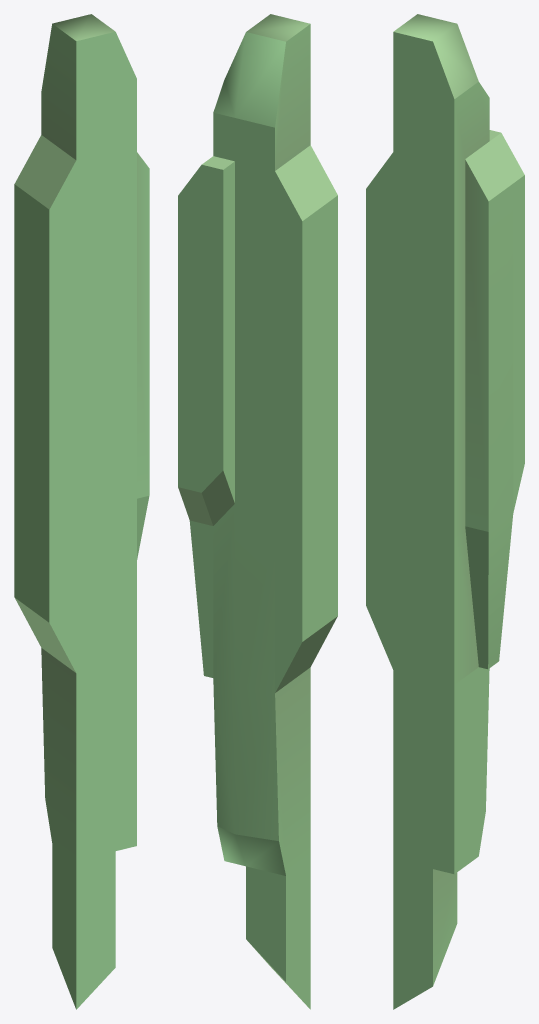
The model's file is CrystalShard.002.glb.
The picture shows the model from 3 angles, left to right: view 1: azimuth 30°, elevation 25°; view 2: azimuth 150°, elevation 25°; view 3: azimuth 330°, elevation 25°; orthographic projection.
Visible parts, largest first — view 1: CrystalShard.002; view 2: CrystalShard.002; view 3: CrystalShard.002.
Boxes of the visible parts, x1,y1,x2,y2 form: CrystalShard.002: (14,14,149,1009); CrystalShard.002: (178,14,337,1009); CrystalShard.002: (366,14,524,1009).
Size of the model in its own units: 217 by 1813 by 158.
